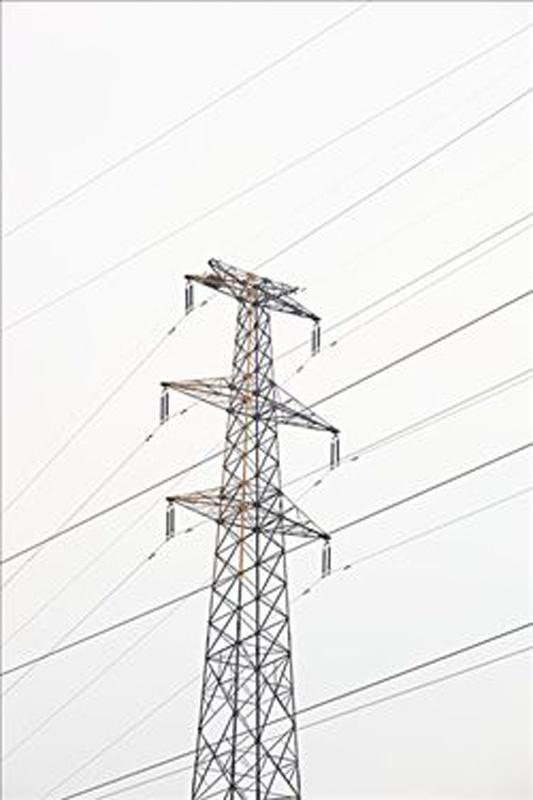power_tower: (142, 256, 361, 800)
